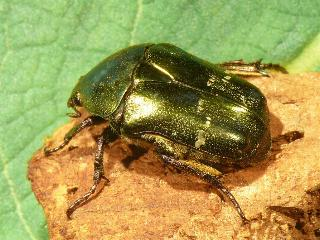Protaetia_fieberi: (41, 40, 289, 228)
